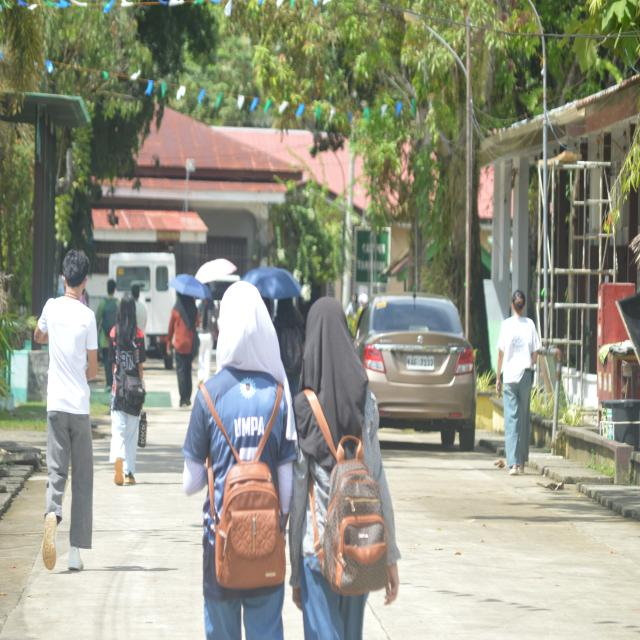person: (183, 392, 284, 639), (34, 250, 97, 570), (290, 392, 367, 639), (497, 290, 540, 475), (109, 292, 145, 485), (167, 294, 197, 407), (274, 299, 304, 394), (96, 280, 119, 391), (197, 299, 215, 385), (131, 285, 147, 332)
